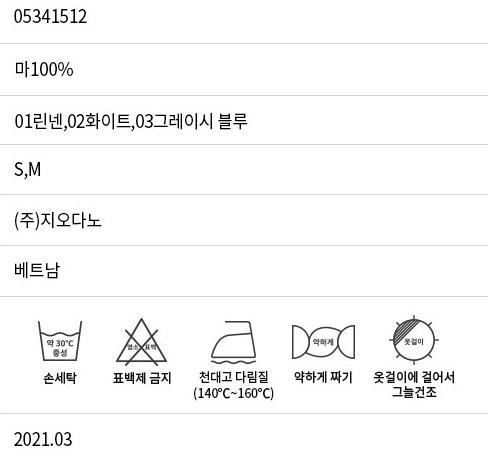KR_gentle_wring: (288, 319, 361, 364)
KR_hand_wash_30_neutral: (33, 315, 86, 368)
KR_hang_dry_in_shade: (385, 312, 440, 365)
KR_no_chlorine_bleach: (115, 312, 171, 368)
